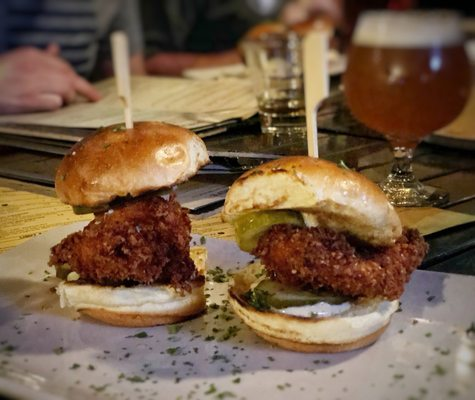pizza: (240, 27, 307, 140)
soup: (221, 156, 430, 353), (45, 120, 212, 327)
